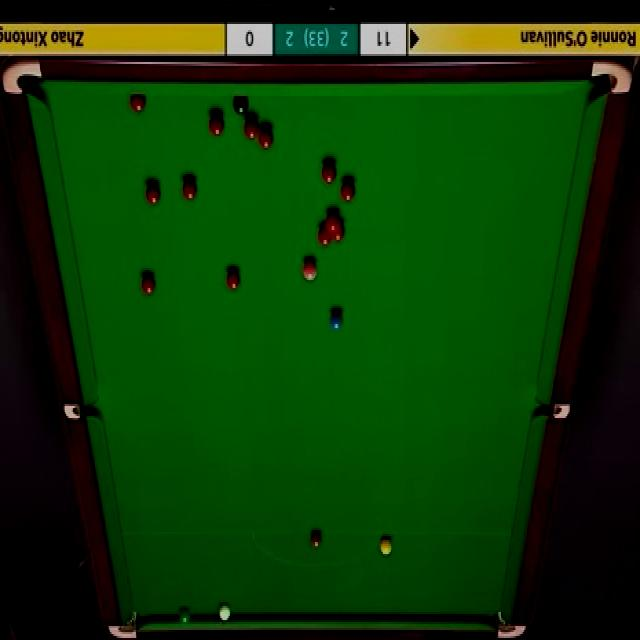black-ball: (232, 95, 248, 117)
blue-ball: (328, 311, 344, 332)
brown-ball: (310, 532, 322, 552)
green-ball: (177, 608, 191, 626)
pink-ball: (301, 256, 318, 281)
red-ball: (180, 176, 198, 202), (243, 114, 259, 143), (225, 267, 242, 294), (208, 110, 225, 136), (339, 179, 359, 201), (258, 124, 274, 150), (144, 182, 160, 206), (324, 157, 342, 178), (142, 271, 156, 296), (332, 218, 346, 242), (318, 222, 331, 246), (129, 97, 147, 114), (324, 210, 340, 229)
white-ball: (219, 602, 232, 622)
yellow-ball: (381, 538, 393, 554)
